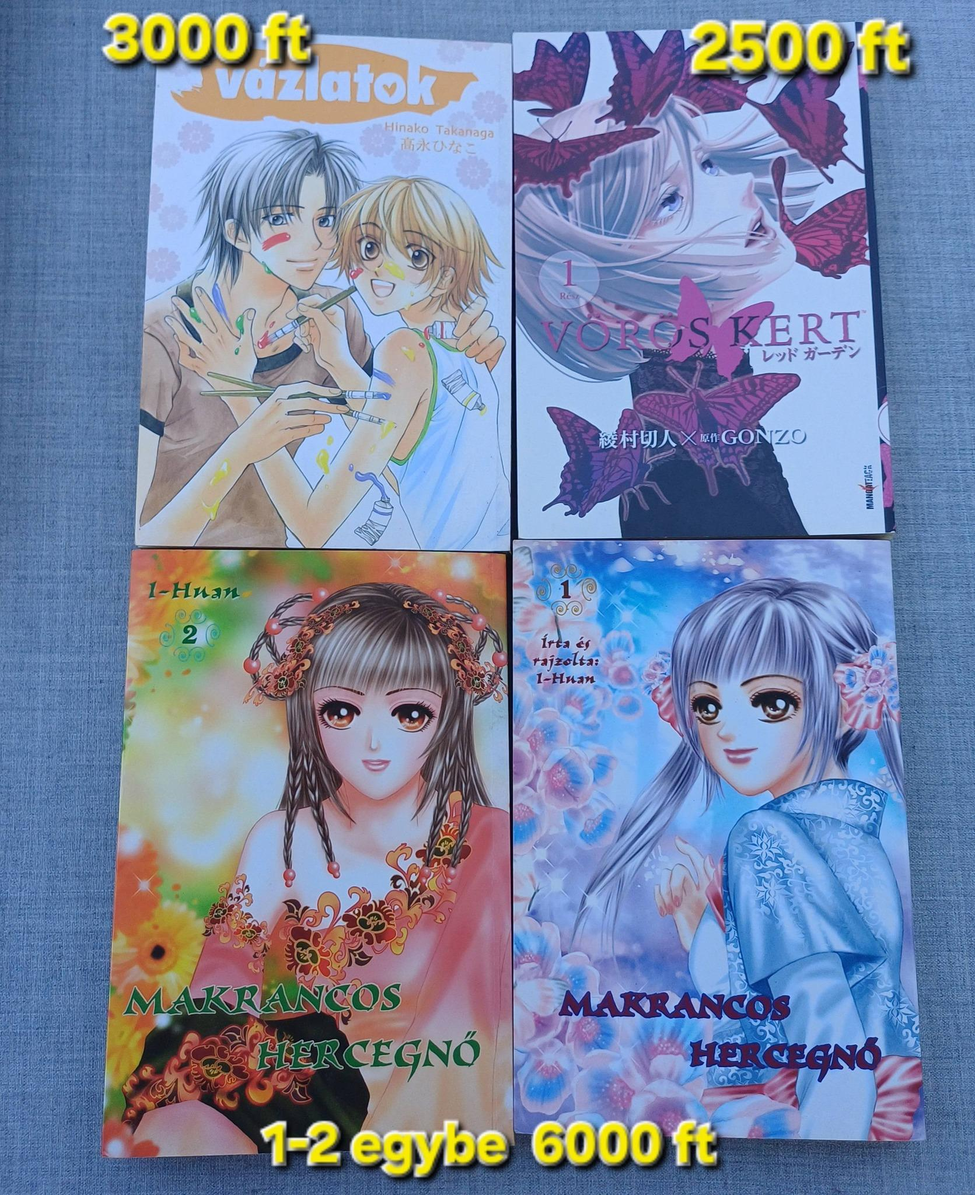comic: (510, 538, 924, 1143), (106, 550, 511, 1155), (506, 24, 893, 543), (136, 34, 516, 551)
